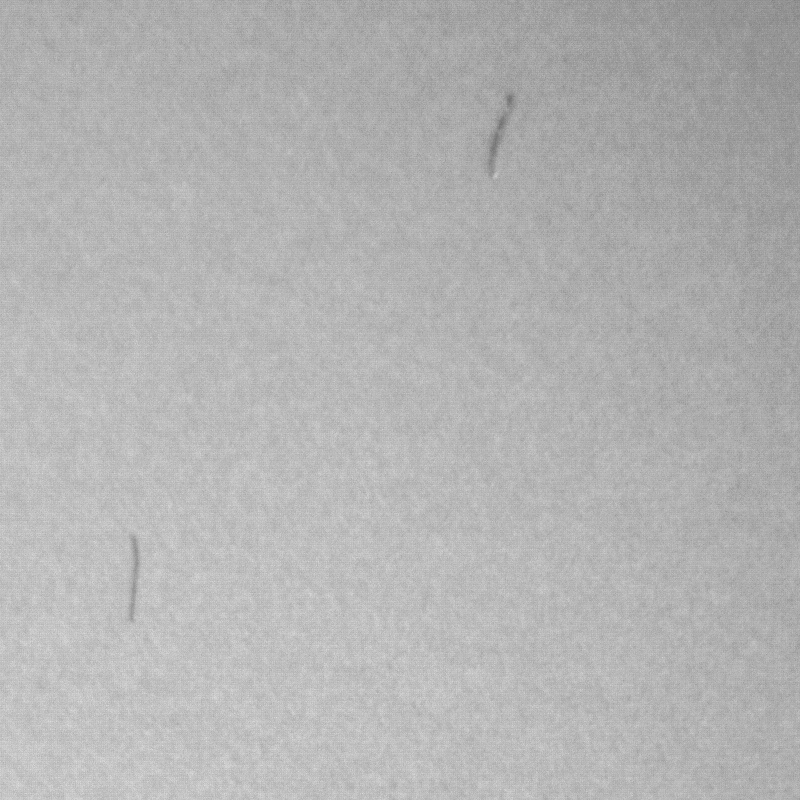defect: (491, 94, 511, 180), (128, 532, 145, 627)
